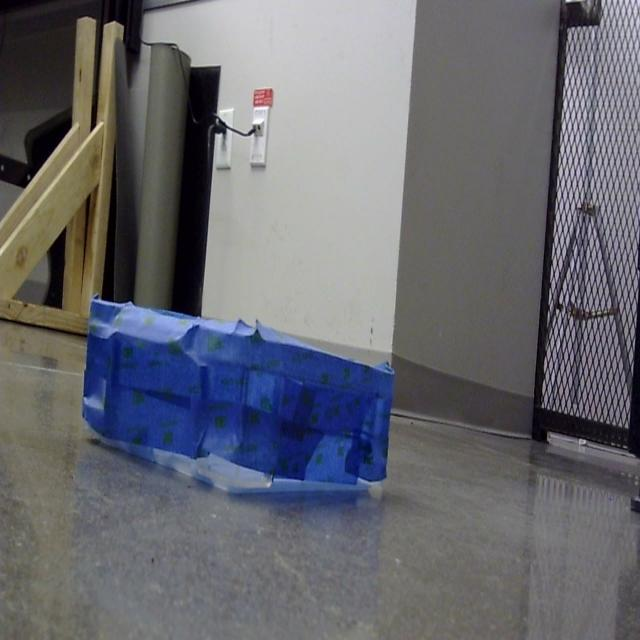bucket: (81, 300, 395, 496)
